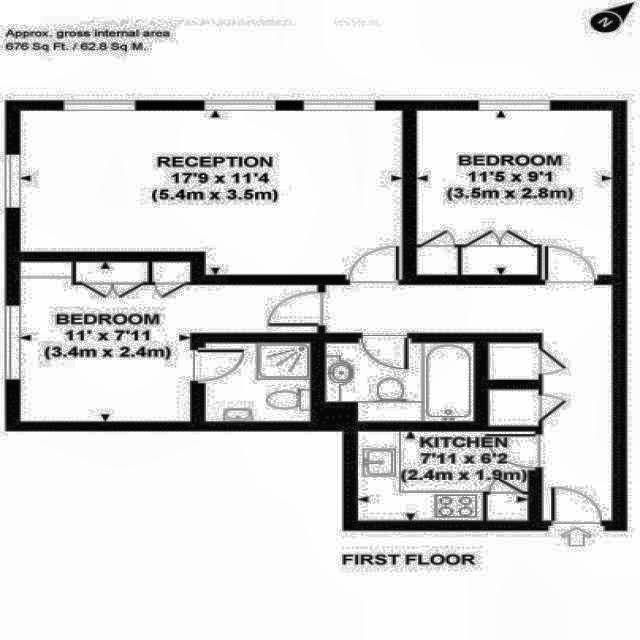room: (324, 285, 613, 521), (19, 110, 402, 276), (20, 262, 317, 422), (416, 110, 612, 280), (358, 431, 536, 521), (324, 342, 475, 423), (205, 342, 311, 421), (488, 390, 539, 427), (489, 343, 539, 380)
